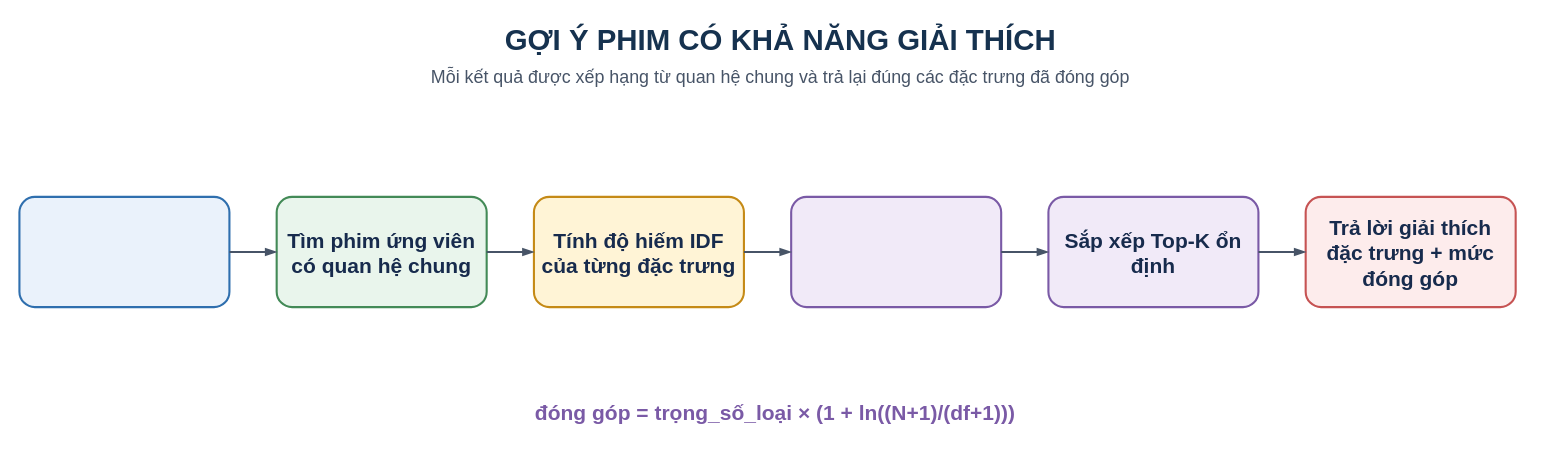
Some shapes in this 1559 by 456 pixel diagram are drawn without their labels. Here are the shapes that lost their labels. From the top down, the centre of each, then its label:
At pixel 124 251: "Phim gốc TMDB ID".
At pixel 896 251: "Cộng điểm trọng số loại × IDF".
